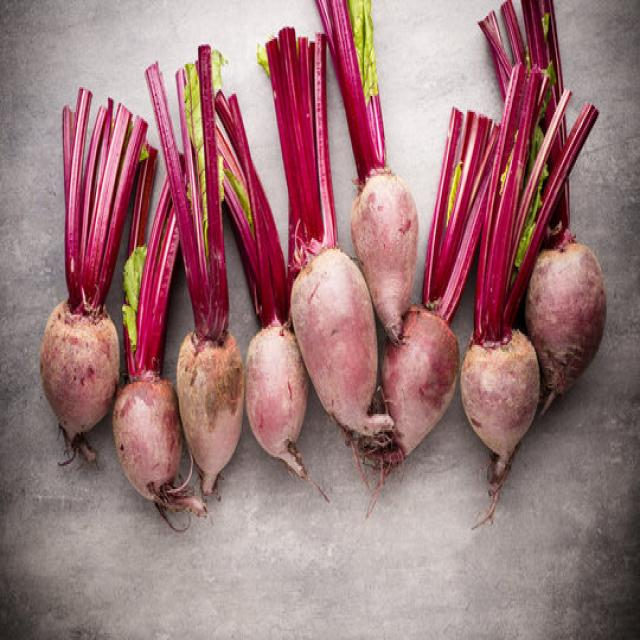Beetroot: (456, 0, 602, 528), (357, 103, 500, 516), (144, 46, 244, 500), (38, 86, 148, 470), (313, 0, 418, 345), (246, 293, 304, 464)
Garlic: (111, 151, 208, 532), (521, 87, 607, 418)
